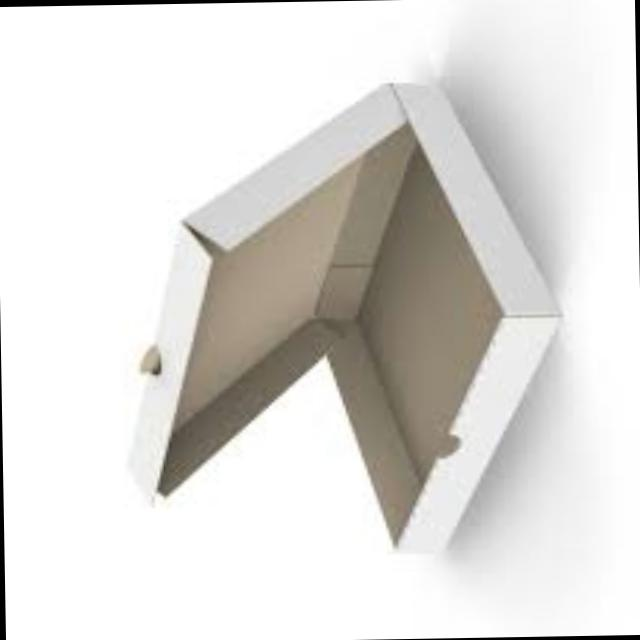cardboard paper: (127, 87, 551, 556)
